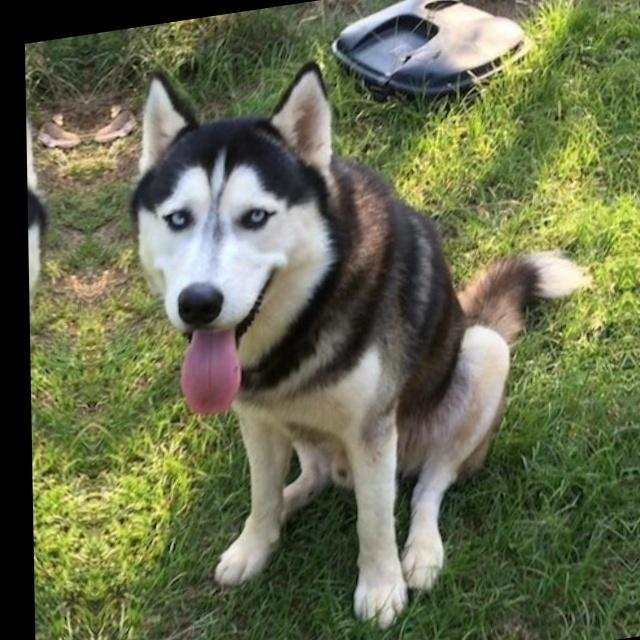dog: (89, 64, 538, 640), (27, 128, 98, 640)
